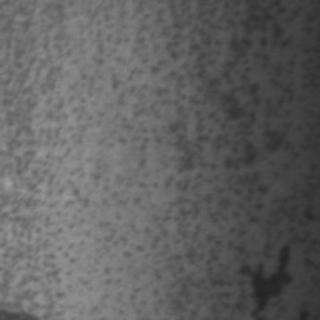pitted_surface: (37, 2, 309, 306)
